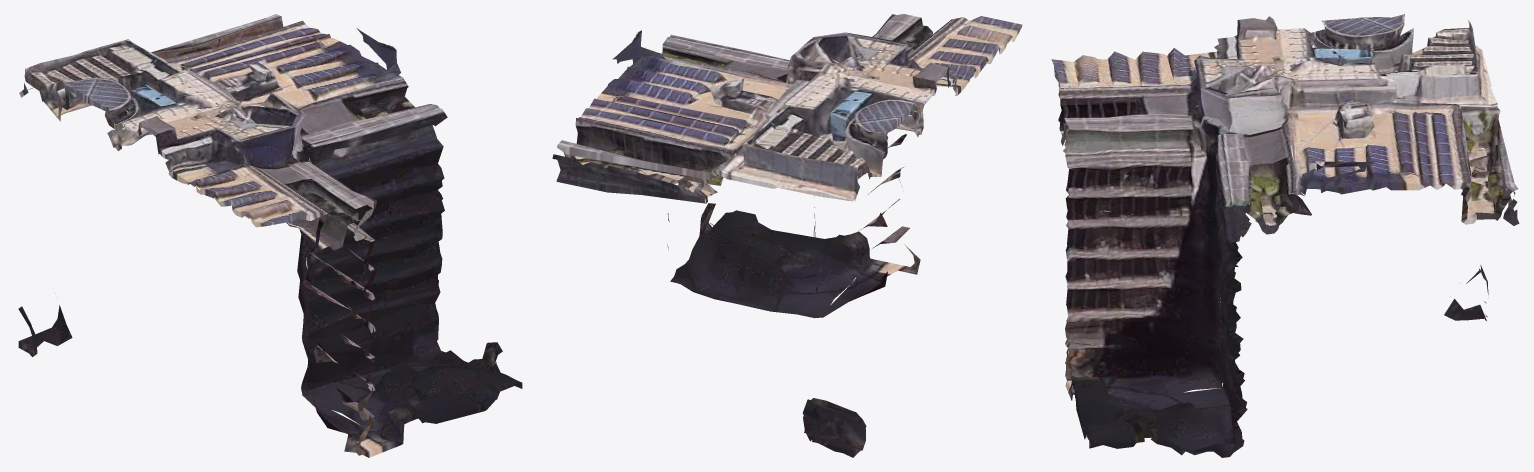
3 renders of one model, left to right at view 1: azimuth 30°, elevation 25°; view 2: azimuth 150°, elevation 25°; view 3: azimuth 270°, elevation 25°, orthographic. The views are drawn at different scales.
Visible parts, largest first — view 1: Mesh_0; view 2: Mesh_0; view 3: Mesh_0.
Part boxes in pixels (x1,y1,x2,y2): Mesh_0: (18,14,522,457); Mesh_0: (552,14,1022,457); Mesh_0: (1051,14,1519,457).
Size of the model in its own units: 33.75 by 30.07 by 41.49.
2 materials, 2 textured.
